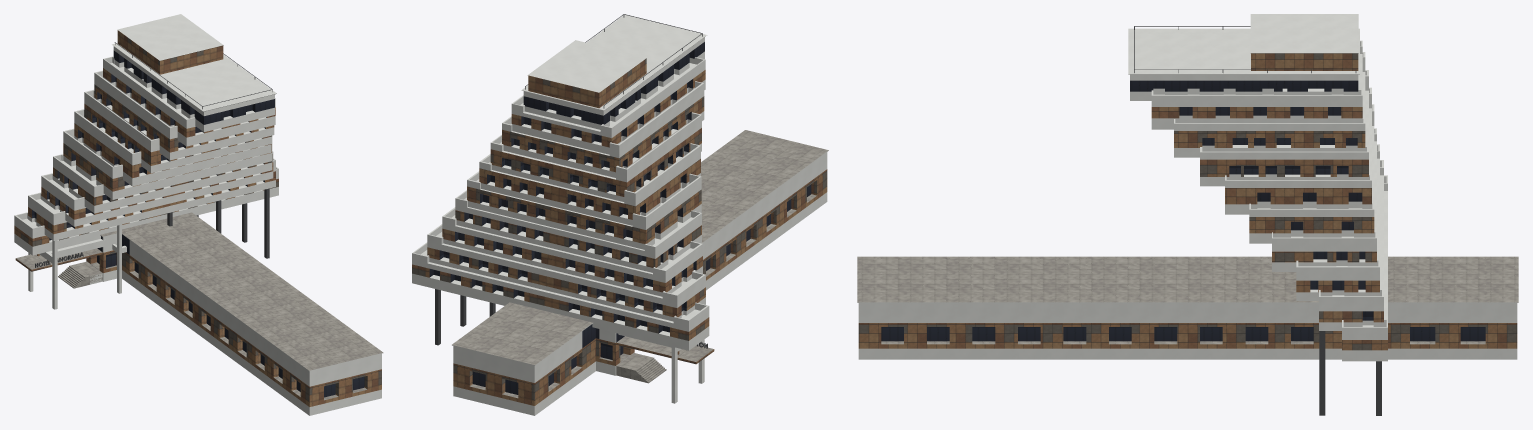
Rendered from panorama.obj.
3 renders of one model, left to right at view 1: azimuth 30°, elevation 25°; view 2: azimuth 150°, elevation 25°; view 3: azimuth 270°, elevation 25°, orthographic. The views are drawn at different scales.
Visible parts, largest first — view 1: Podium_Pavement, Podium_PaintWhite, Floor9_PaintWhite, Podium_Cladding, RoofHouse_PaintWhite, Floor1_PaintWhite, Floor4_PaintWhite, Floor3_PaintWhite, Floor2_PaintWhite, Floor5_PaintWhite, Floor0_PaintWhite, Floor8_PaintWhite (+18 smaller); view 2: Podium_Pavement, Podium_PaintWhite, Podium_Cladding, Floor9_PaintWhite, Floor0_PaintWhite, Floor1_PaintWhite, Floor2_PaintWhite, Floor3_PaintWhite, RoofHouse_PaintWhite, Floor8_PaintWhite, Floor4_PaintWhite, Floor5_PaintWhite (+26 smaller); view 3: Podium_Pavement, Podium_PaintWhite, Podium_Cladding, Floor9_PaintWhite, RoofHouse_PaintWhite, Podium_Glass, Floor8_PaintWhite, Floor7_PaintWhite, Floor6_PaintWhite, Floor3_PaintWhite, Floor9_Glass, Floor7_Cladding (+17 smaller).
Boxes of the visible parts, x1,y1,x2,y2 form: Podium_Pavement: (16, 212, 382, 400); Podium_PaintWhite: (86, 233, 383, 415); Floor9_PaintWhite: (112, 43, 276, 131); Podium_Cladding: (15, 250, 381, 406); RoofHouse_PaintWhite: (117, 14, 223, 60); Floor1_PaintWhite: (28, 158, 275, 240); Floor4_PaintWhite: (63, 128, 271, 199); Floor3_PaintWhite: (53, 144, 272, 213); Floor2_PaintWhite: (41, 151, 273, 226); Floor5_PaintWhite: (74, 109, 271, 186); Floor0_PaintWhite: (14, 167, 278, 255); Floor8_PaintWhite: (103, 56, 275, 146); Podium_Pavement: (452, 130, 828, 398); Podium_PaintWhite: (452, 150, 828, 415); Podium_Cladding: (453, 169, 827, 405); Floor9_PaintWhite: (521, 15, 706, 129); Floor0_PaintWhite: (412, 242, 709, 350); Floor1_PaintWhite: (427, 224, 705, 321); Floor2_PaintWhite: (442, 207, 702, 296); Floor3_PaintWhite: (455, 190, 701, 272); RoofHouse_PaintWhite: (528, 40, 646, 92); Floor8_PaintWhite: (511, 57, 705, 154); Floor4_PaintWhite: (467, 171, 701, 249); Floor5_PaintWhite: (479, 143, 700, 225); Podium_Pavement: (857, 256, 1518, 344); Podium_PaintWhite: (857, 302, 1518, 359); Podium_Cladding: (858, 323, 1517, 348); Floor9_PaintWhite: (1128, 28, 1359, 100); RoofHouse_PaintWhite: (1250, 14, 1358, 53); Podium_Glass: (881, 327, 1485, 341); Floor8_PaintWhite: (1151, 40, 1362, 129); Floor7_PaintWhite: (1174, 52, 1365, 157); Floor6_PaintWhite: (1200, 70, 1368, 186); Floor3_PaintWhite: (1272, 128, 1376, 271); Floor9_Glass: (1130, 80, 1358, 91); Floor7_Cladding: (1174, 131, 1365, 147).
Size of the model in its own units: 45.14 by 43.47 by 82.09.
6 materials, 6 textured.
